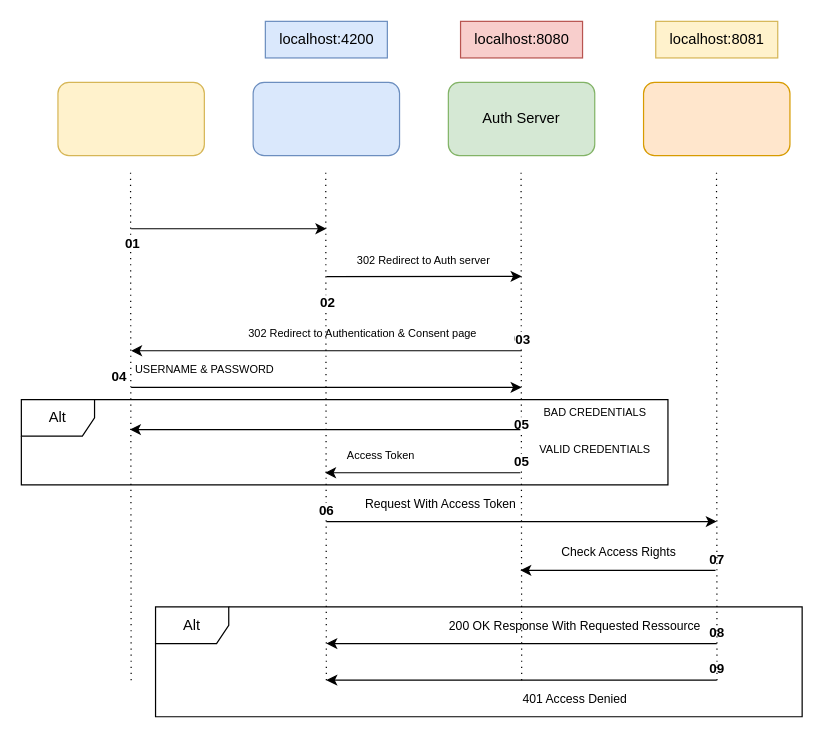
Some shapes in this 824 by 738 pixel diagram are drawn without their labels. Each missing label, with the centre of its shape:
Client Front end APP: (326,118)
Navigateur: (130,118)
Ressource Server Back end: (716,118)
